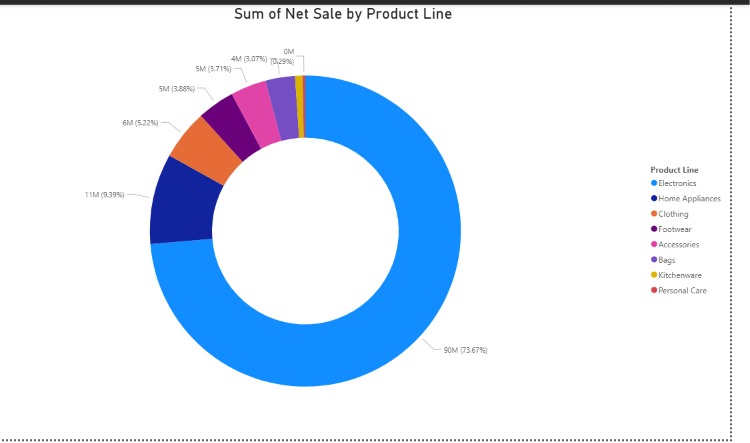

The dashboard page shown, as its layout file describes it:
{"tool":"powerbi","page":{"name":"Sale by Product Line","canvas":[1280,720],"ordinal":1},"visuals":[{"type":"donutChart","fields":{"Category":["Dim Product.Product Line","Dim Product.Product Name"],"Y":["Sum(Fact.Net Sale)"]},"box":[0,0,1280.5,720.6],"z":1000}]}

Visuals, with their boxes on the page's 1280x720 design canvas (x1, y1, x2, y2). These are canvas units, not pixel positions in the 750x443 screenshot, which may show the page scaled, cropped or inside an application window:
donutChart - Dim Product.Product Line x Dim Product.Product Name: bbox=(0, 0, 1280, 721)
